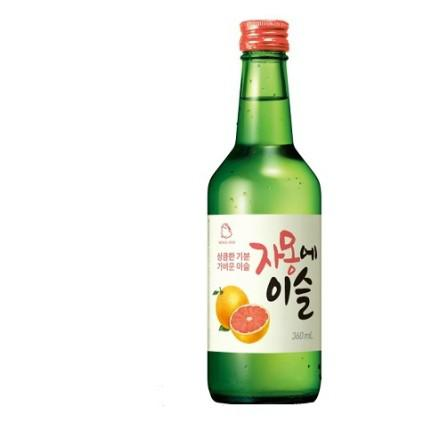soju: (203, 18, 327, 406)
